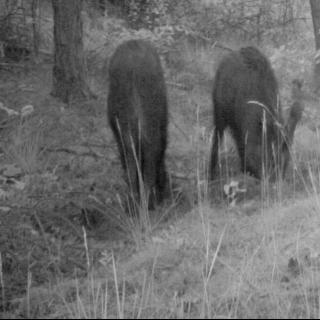Pig: (207, 22, 306, 205), (99, 29, 182, 226)
